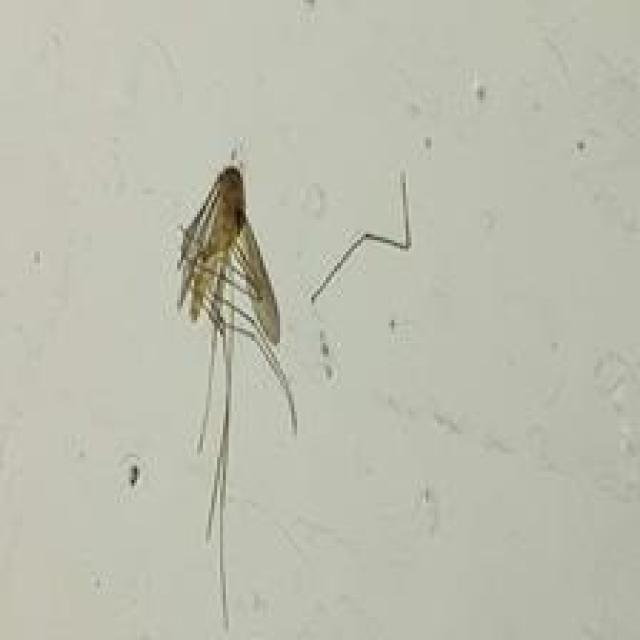Culex: (173, 150, 298, 630)
